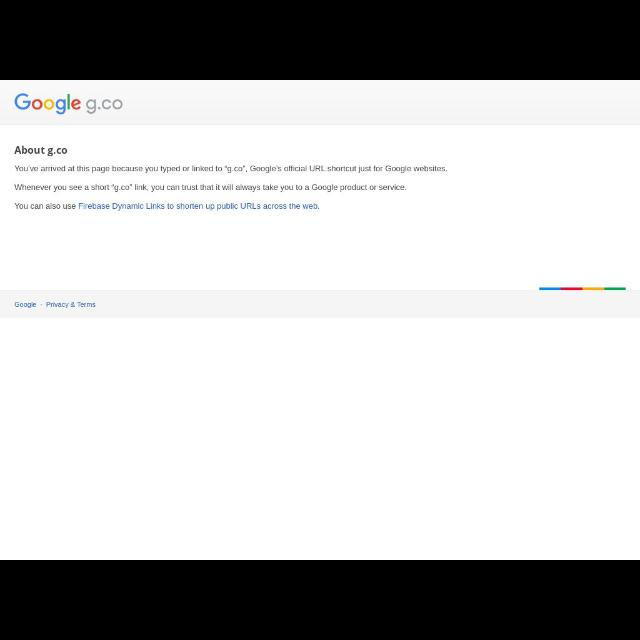image: (14, 90, 124, 116)
link: (77, 202, 320, 212), (47, 300, 97, 310), (13, 300, 37, 308)
text: (12, 162, 450, 214), (12, 144, 68, 156)
